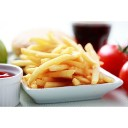frenchfries: (19, 36, 103, 86)
